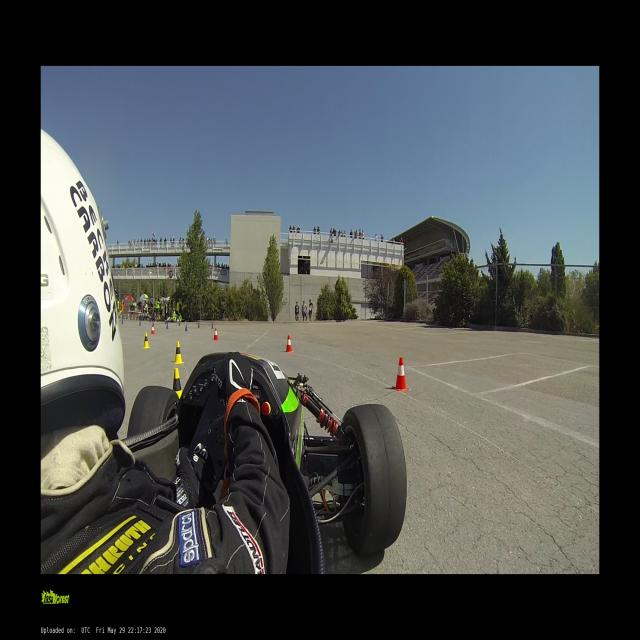blue_cone: (185, 324, 188, 332), (197, 322, 200, 328), (211, 322, 213, 329), (139, 320, 141, 326), (167, 322, 168, 329), (179, 320, 180, 326), (122, 318, 123, 324), (153, 321, 154, 326)
orange_cone: (392, 356, 410, 391), (285, 335, 293, 353), (214, 328, 218, 341), (151, 324, 155, 335)
yellow_cone: (174, 341, 184, 364), (173, 369, 182, 393), (142, 332, 150, 348)
